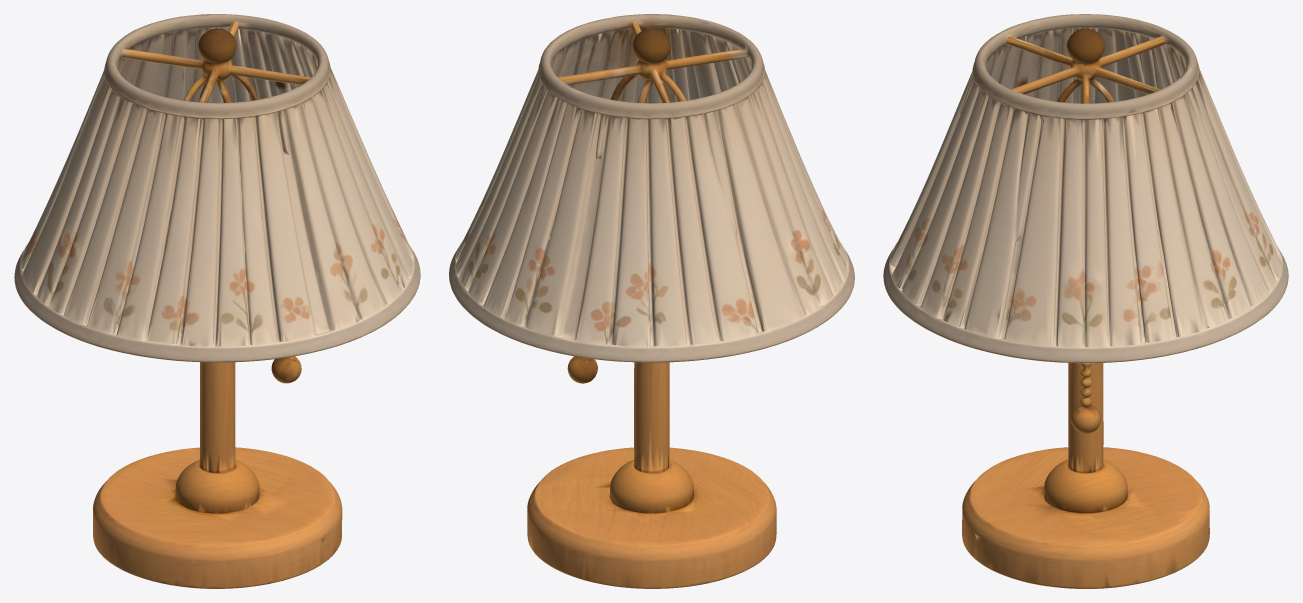
Rendered from tableLamp.glb.
The picture shows the model from 3 angles, left to right: view 1: azimuth 30°, elevation 25°; view 2: azimuth 150°, elevation 25°; view 3: azimuth 270°, elevation 25°; orthographic projection.
Parts seen in each view (by area): view 1: node_0; view 2: node_0; view 3: node_0.
Part boxes in pixels (x1,y1,x2,y2): node_0: (14, 14, 420, 588); node_0: (449, 14, 854, 588); node_0: (883, 14, 1288, 588).
Size of the model in its own units: 0.8031 by 1.11 by 0.7993.
Materials: 1 (1 with a texture image).
